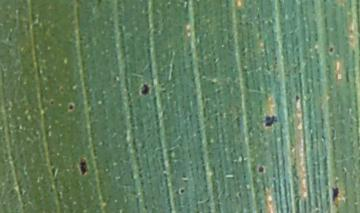tarspot: (263, 113, 279, 129), (78, 157, 89, 177), (330, 185, 340, 202), (140, 83, 149, 96), (326, 45, 335, 56), (257, 164, 265, 174), (294, 93, 301, 104), (67, 102, 74, 112), (48, 99, 55, 106), (179, 187, 185, 195), (257, 206, 263, 213), (96, 1, 101, 6)
